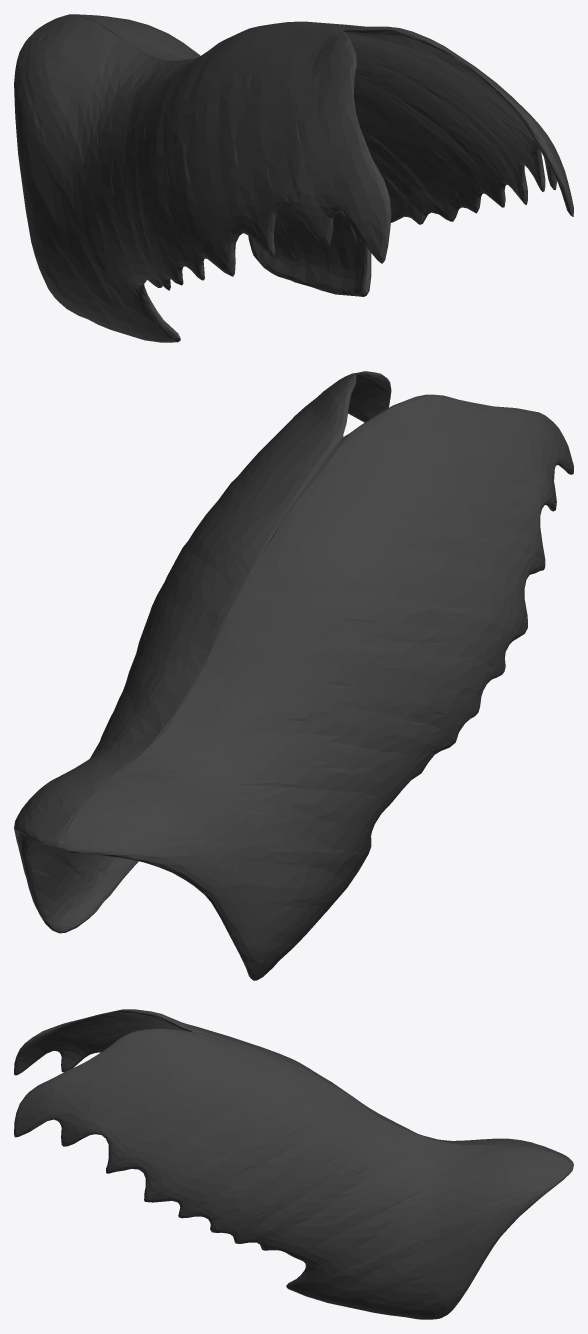
File: m_EAO.glb
3 views of the same model, one above another, from view 1: azimuth 30°, elevation 25°; view 2: azimuth 150°, elevation 25°; view 3: azimuth 270°, elevation 25° (orthographic). The views are drawn at different scales.
Parts seen in each view (by area): view 1: m_EAO; view 2: m_EAO; view 3: m_EAO.
Boxes of the visible parts, x1,y1,x2,y2 form: m_EAO: [14, 14, 573, 342]; m_EAO: [14, 371, 573, 980]; m_EAO: [14, 1009, 573, 1319].
Size of the model in its own units: 0.00489 by 0.00609 by 0.0115.
1 material, 1 textured.
